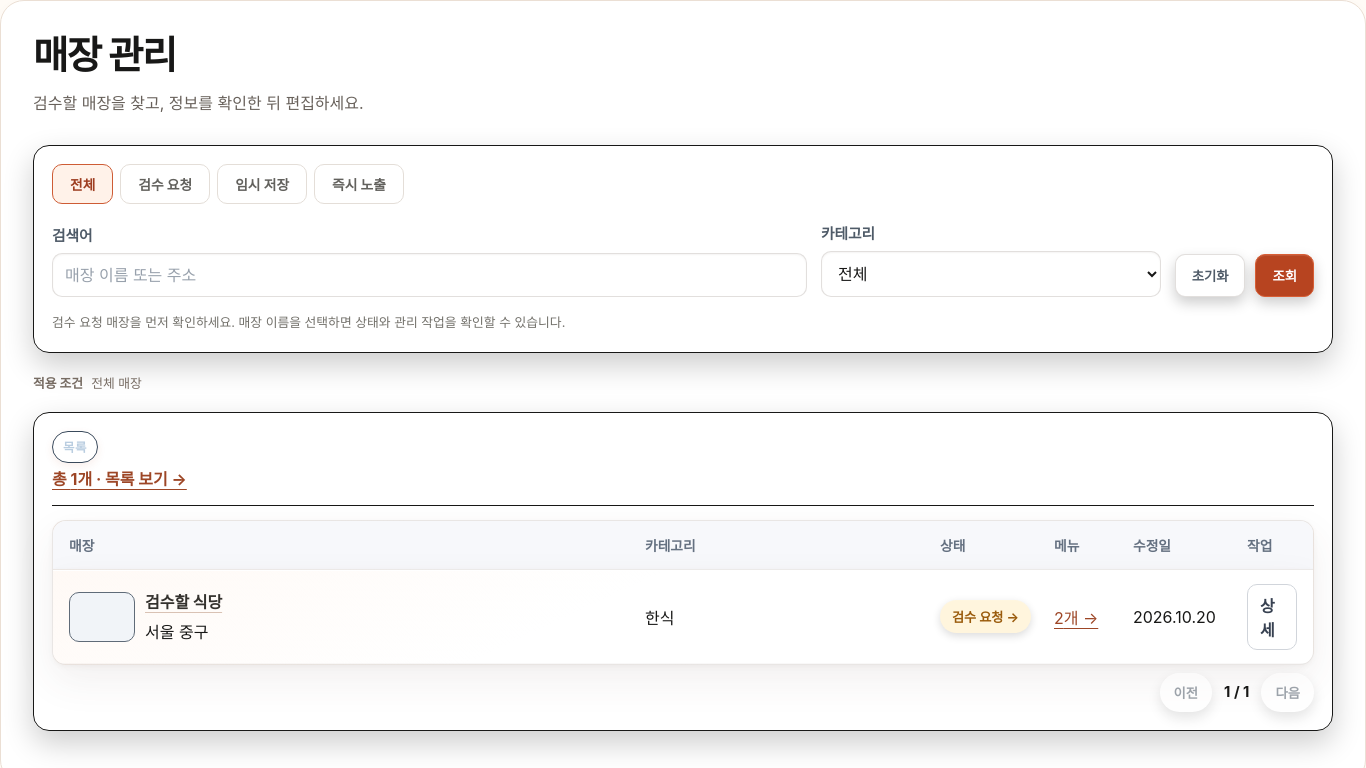
it: shows a deletion failure in the open drawer and permits a deliberate retry
The image size is (1366, 768).
Click the button with aria-label "검수할 식당 관리 작업 열기": (184, 602) [145,590,222,614]
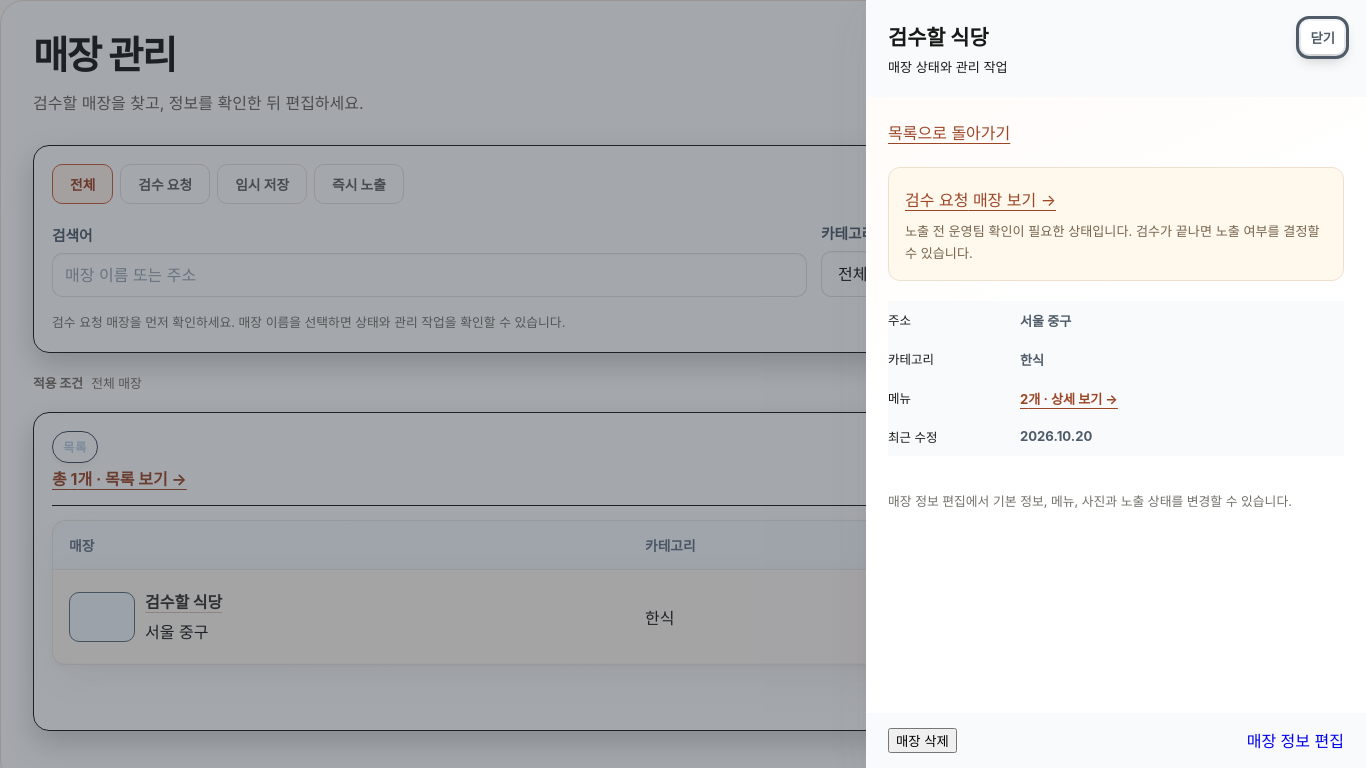
Click the button "매장 삭제": (922, 740) [888,728,957,753]
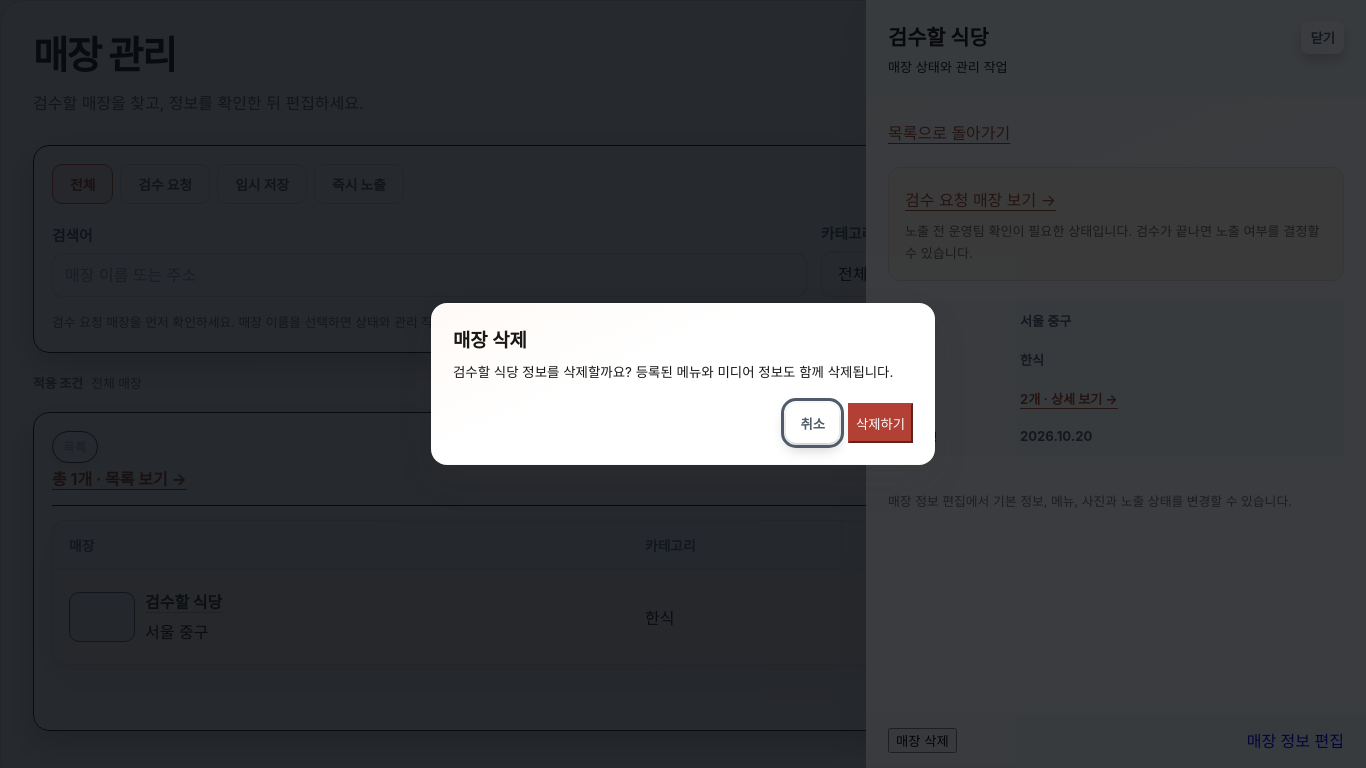
Click the button "삭제하기": (880, 423) [848,403,913,443]
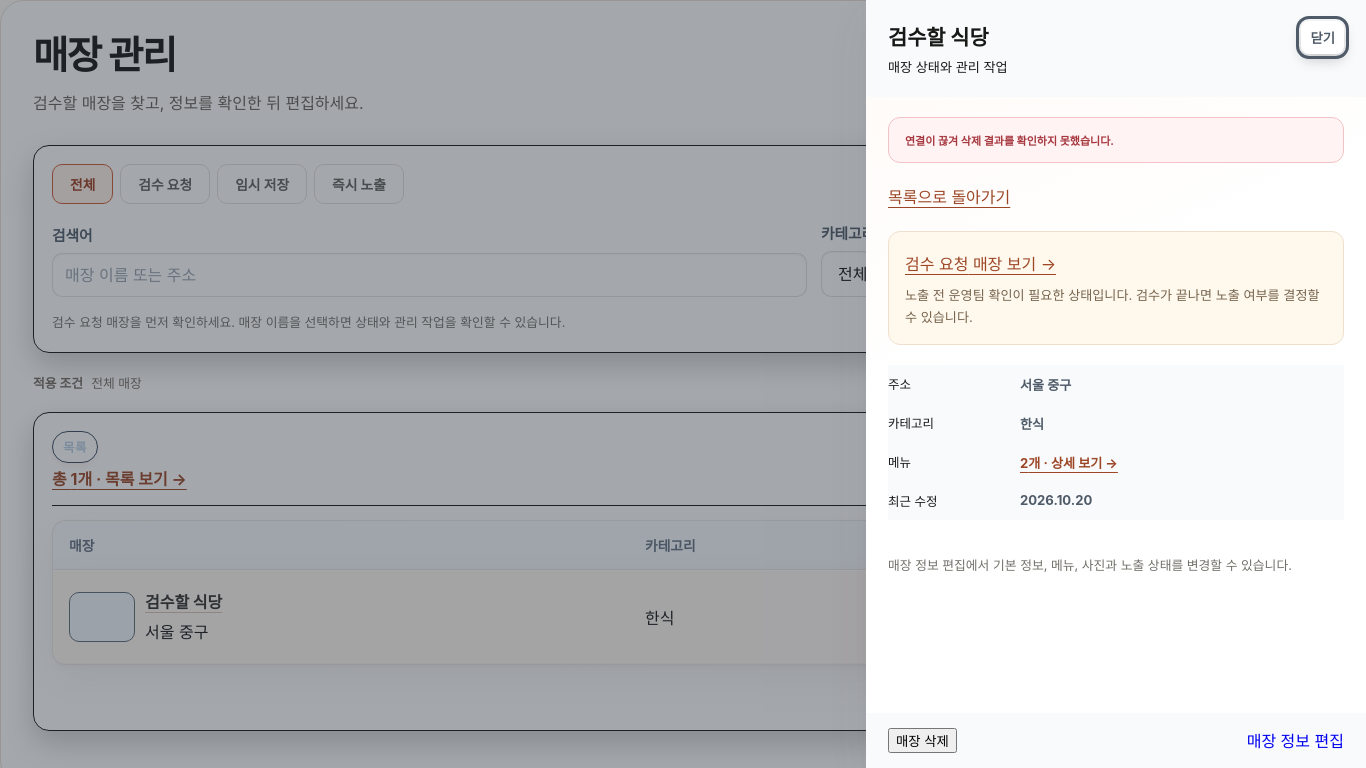
Result: the button "매장 삭제" is enabled
Result: the message reads "연결이 끊겨 삭제 결과를 확인하지 못했습니다." at [905,134,1114,148]
Click the button "매장 삭제": (922, 740) [888,728,957,753]
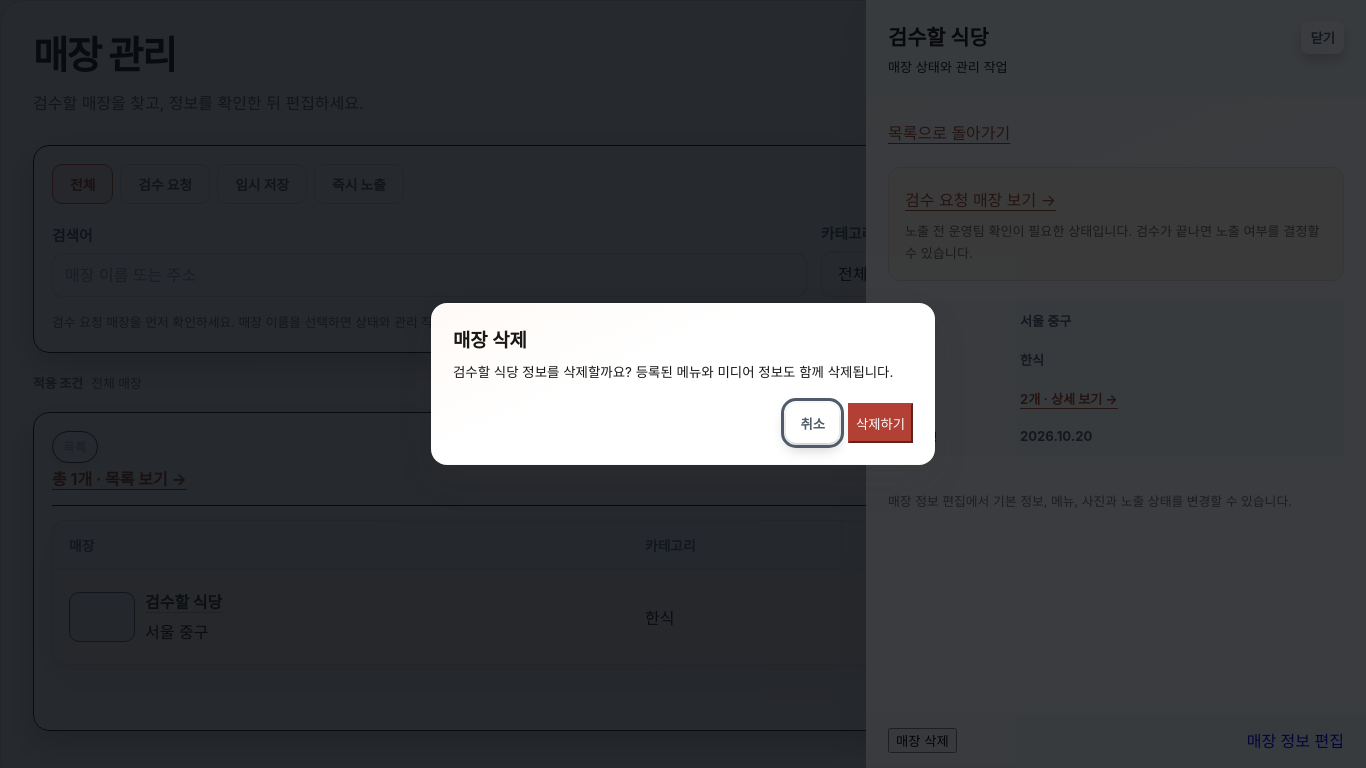
Result: the dialog "매장 삭제" is shown at [431,303,935,465]
